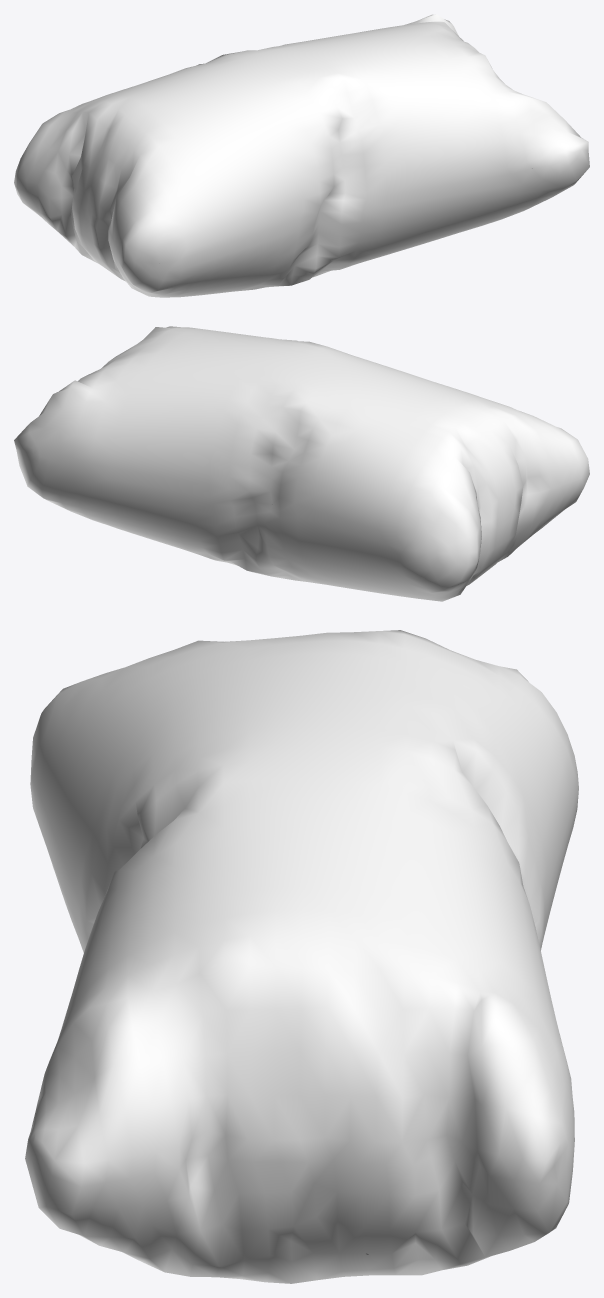
Rendered from Almohada-unity.fbx.
3 renders of one model, top to bottom at view 1: azimuth 30°, elevation 25°; view 2: azimuth 150°, elevation 25°; view 3: azimuth 270°, elevation 25°, orthographic. The views are drawn at different scales.
Visible parts, largest first — view 1: Almohada2; view 2: Almohada2; view 3: Almohada2.
Boxes of the visible parts, left/top/right/bottom form: Almohada2: left=14, top=14, right=589, bottom=297; Almohada2: left=14, top=326, right=589, bottom=601; Almohada2: left=25, top=630, right=578, bottom=1283.
Size of the model in its own units: 60.8 by 25.38 by 31.81.
